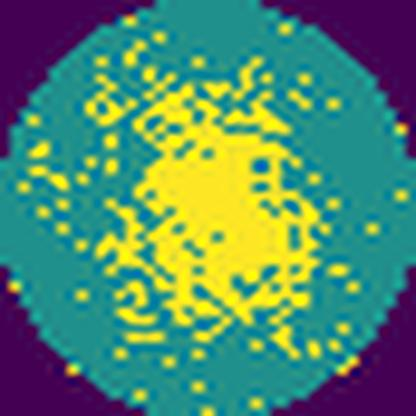Center: (112, 72, 316, 346)
